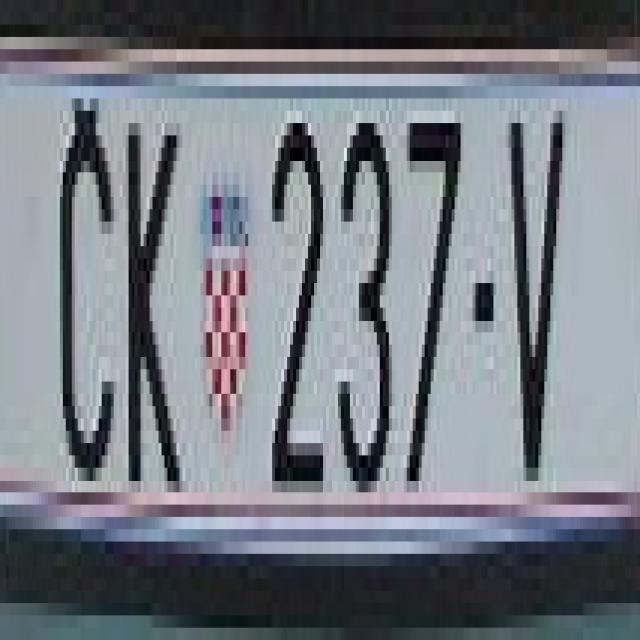2: (266, 111, 332, 492)
3: (335, 111, 389, 480)
7: (398, 99, 458, 468)
C: (59, 99, 120, 468)
K: (122, 111, 186, 492)
V: (496, 86, 560, 480)
